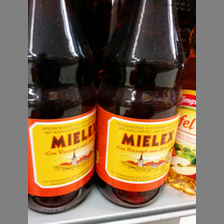vinegar: (99, 1, 185, 206), (29, 1, 96, 215)
